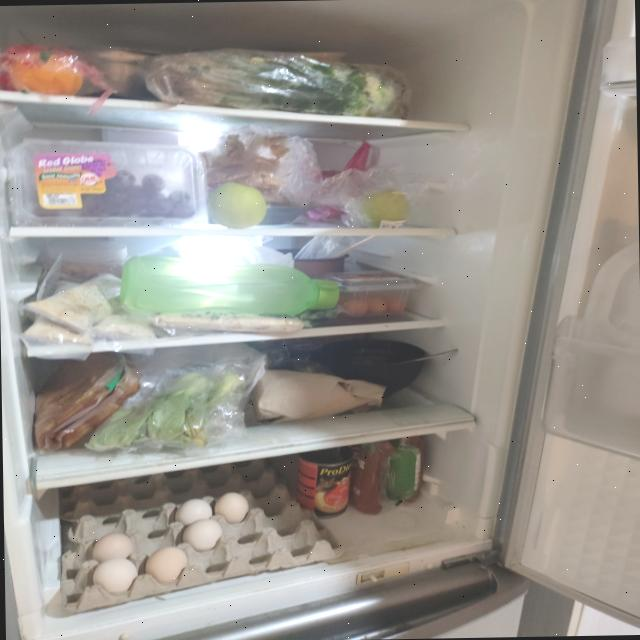apple: (208, 182, 266, 228), (362, 188, 410, 228)
egg: (57, 457, 346, 613)
grape: (11, 136, 207, 228)
leafy_greens: (160, 45, 408, 122)
orange: (9, 50, 83, 96)
pakchoy: (85, 368, 244, 452)
tempeh: (26, 271, 158, 347), (152, 308, 304, 334)
